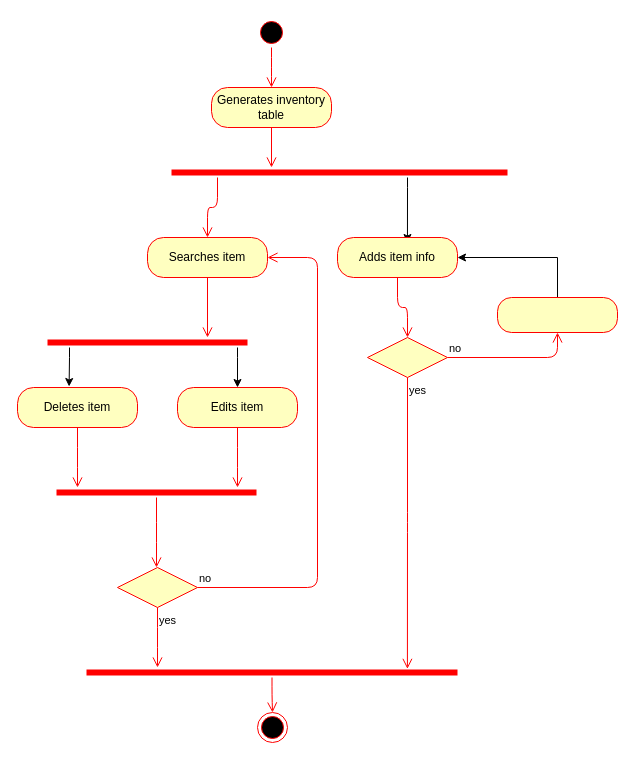
This 635x760 diagram has some shape labels left out. Each missing label, with the centre of its shape:
"No error" belongs at [157,587].
"shows error" belongs at [557,314].
"Valid input" belongs at [407,357].
